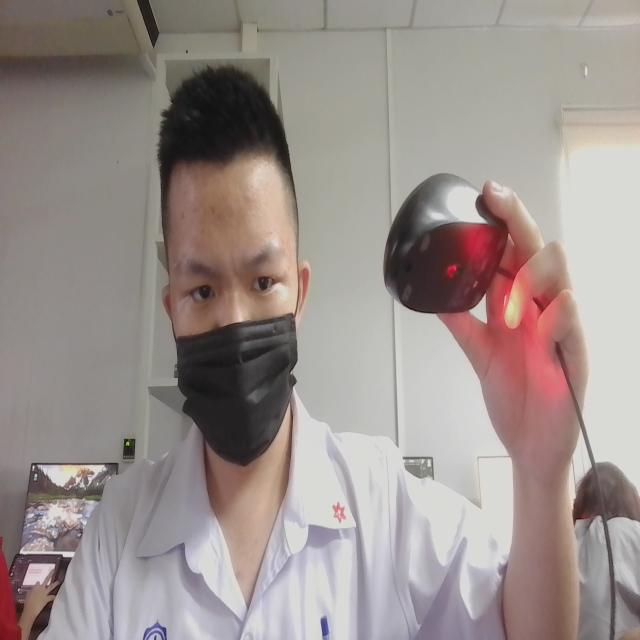mouse: (367, 142, 513, 358)
